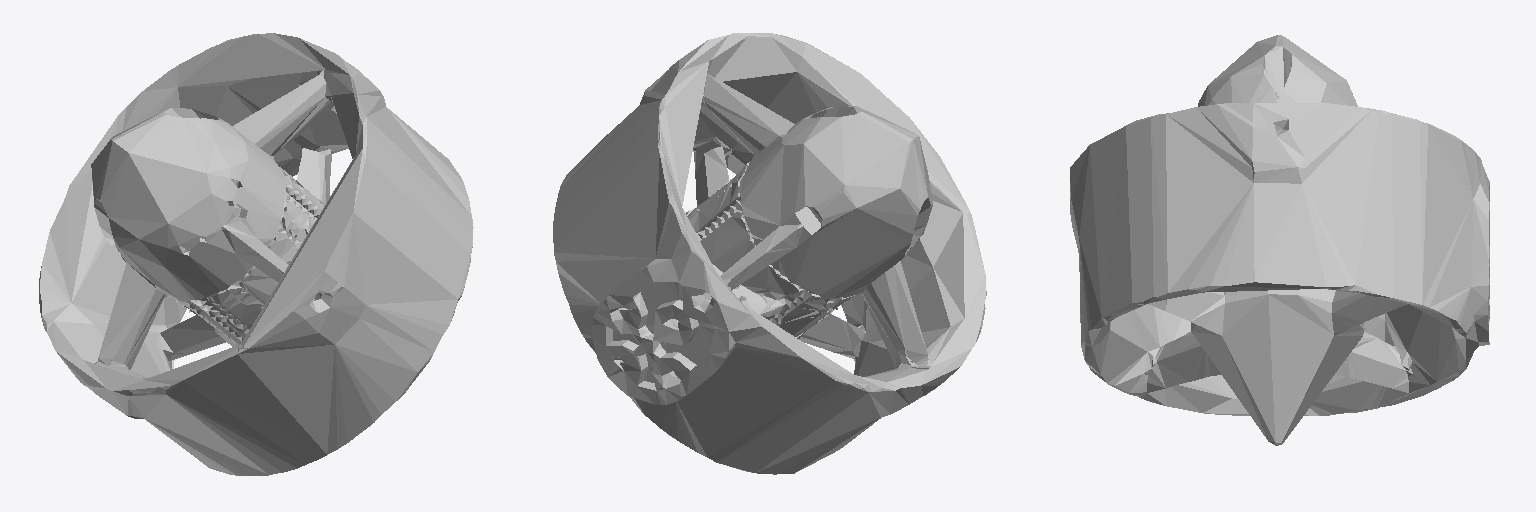
File: lb-thruster_visual_lb-thruster.obj
3 views of the same model, side by side, from view 1: azimuth 30°, elevation 25°; view 2: azimuth 150°, elevation 25°; view 3: azimuth 270°, elevation 25° (orthographic).
Parts seen in each view (by area): view 1: lb-thruster_visual_lb-thruster; view 2: lb-thruster_visual_lb-thruster; view 3: lb-thruster_visual_lb-thruster.
Boxes of the visible parts, <box> form: lb-thruster_visual_lb-thruster: <box>39,33,473,475</box>; lb-thruster_visual_lb-thruster: <box>553,33,986,474</box>; lb-thruster_visual_lb-thruster: <box>1070,35,1489,445</box>.
Size of the model in its own units: 0.0964 by 0.0964 by 0.0975.